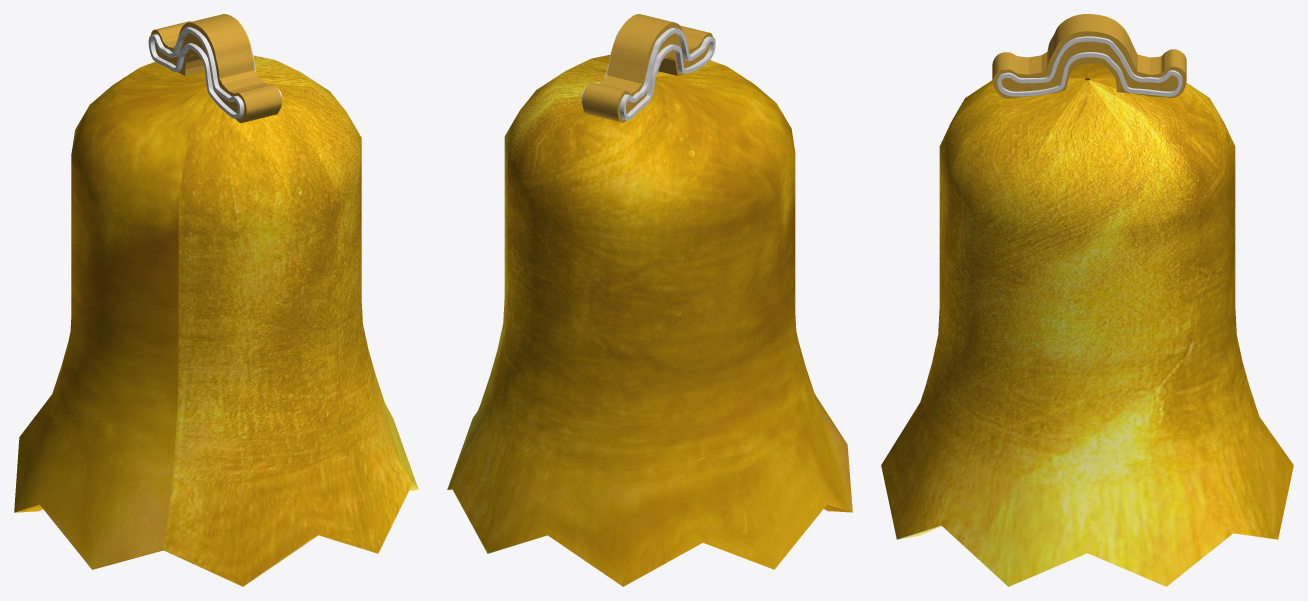
File: bell.gltf
3 views of the same model, side by side, from view 1: azimuth 30°, elevation 25°; view 2: azimuth 150°, elevation 25°; view 3: azimuth 270°, elevation 25° (orthographic).
Visible parts, largest first — view 1: 3DXY_geometry_004, 3DXY_geometry_001, 3DXY_geometry_003; view 2: 3DXY_geometry_004, 3DXY_geometry_001, 3DXY_geometry_003; view 3: 3DXY_geometry_004, 3DXY_geometry_001, 3DXY_geometry_002.
Part boxes in pixels (x1,y1,x2,y2): 3DXY_geometry_004: [14, 55, 418, 586]; 3DXY_geometry_001: [151, 14, 281, 123]; 3DXY_geometry_003: [148, 27, 244, 118]; 3DXY_geometry_004: [447, 54, 852, 586]; 3DXY_geometry_001: [582, 14, 713, 122]; 3DXY_geometry_003: [619, 27, 715, 120]; 3DXY_geometry_004: [881, 63, 1293, 586]; 3DXY_geometry_001: [992, 14, 1186, 98]; 3DXY_geometry_002: [997, 36, 1182, 96].
Bounding box in the file's own units: 76.71 × 99.27 × 76.71.
3 materials, 1 textured.
